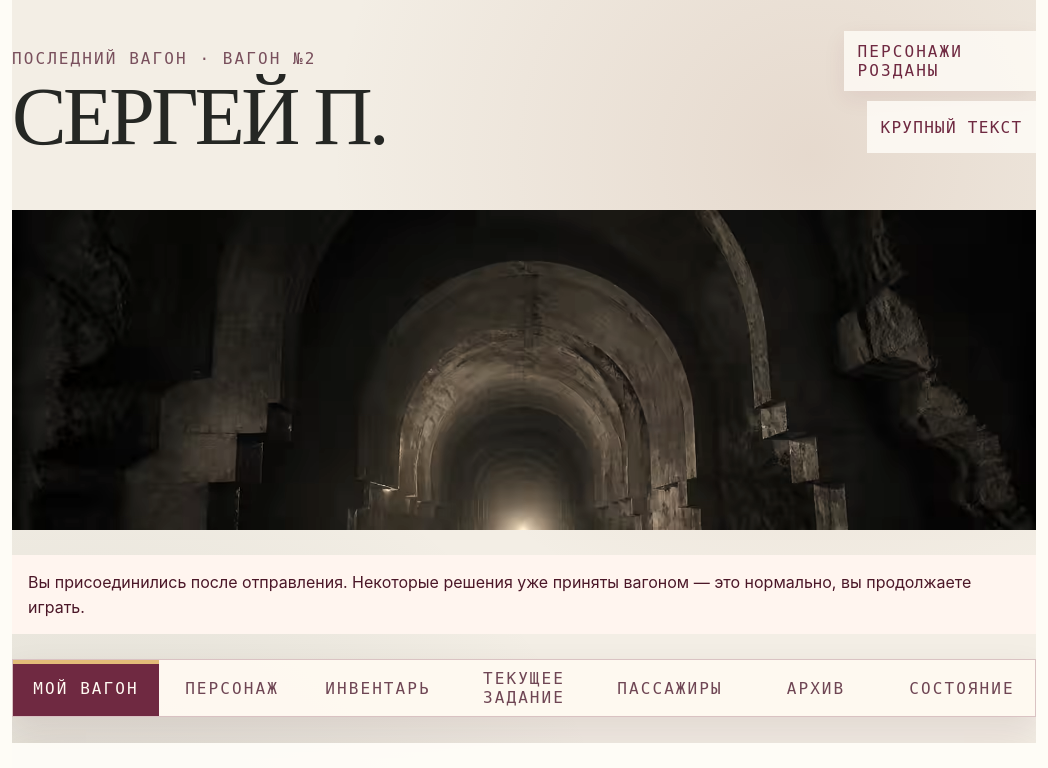
BunkerPlayerDashboard › shows one memorable ability without exposing the hidden trait
This screenshot has width=1048, height=768.
Click the button "ПЕРСОНАЖ": (232, 688) [159,660,305,716]
(page scrolled)
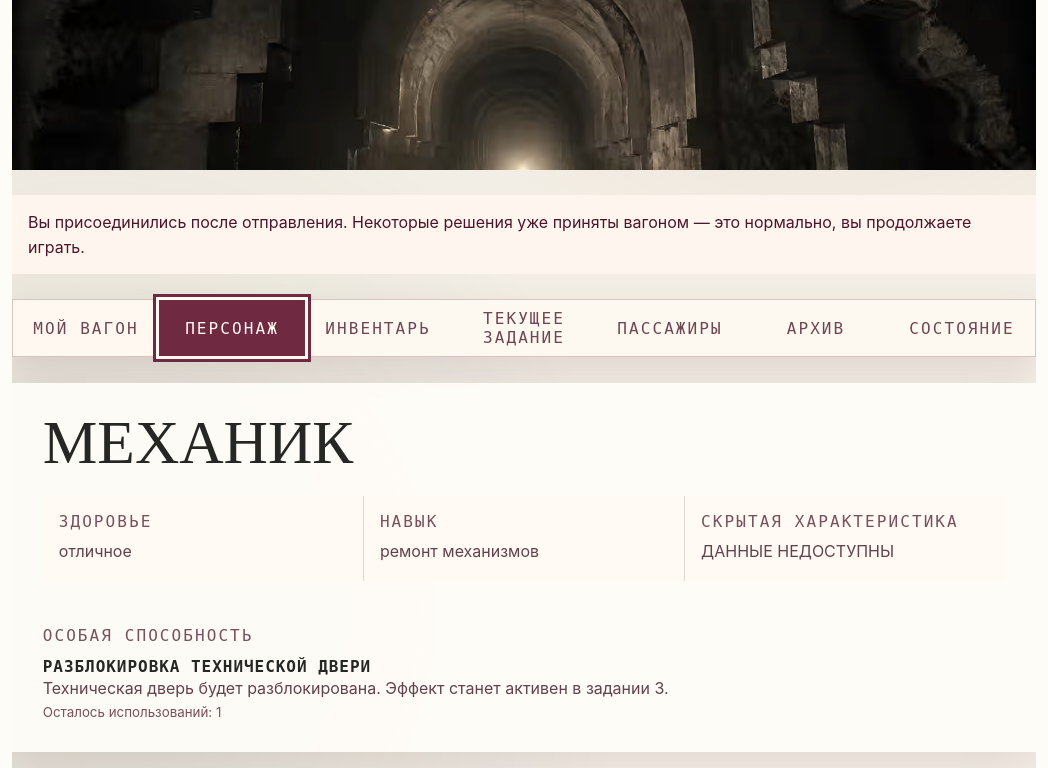
Expected: the heading "МЕХАНИК" is shown, [43,408,353,476]
Expected: the text "ДАННЫЕ НЕДОСТУПНЫ" is shown, [701,541,894,561]
Expected: the text "РАЗБЛОКИРОВКА ТЕХНИЧЕСКОЙ ДВЕРИ" is shown, [43,657,371,676]
